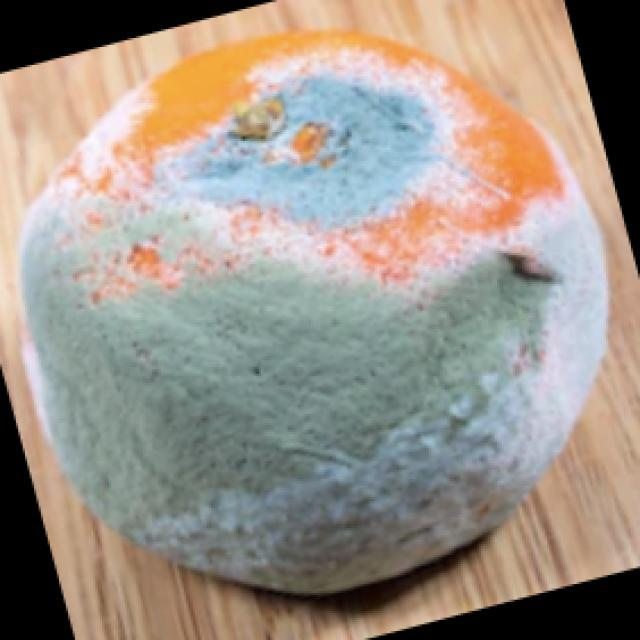sangat-busuk: (22, 30, 607, 594), (22, 199, 607, 594), (158, 76, 440, 226)
